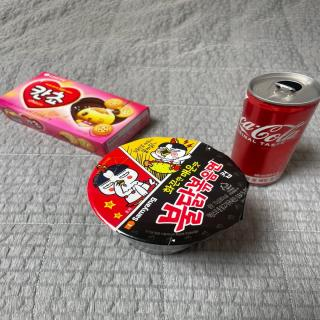cocacola: (230, 70, 320, 188)
